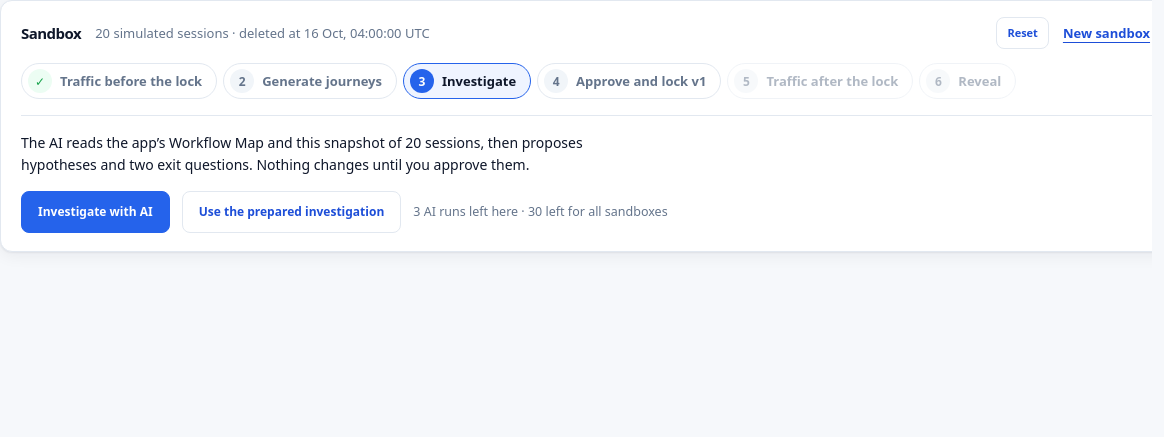
Test: resets the sandbox after a second click and keeps the session limit
Click the button "Reset". click: (1023, 33)
box: [996,17,1049,49]
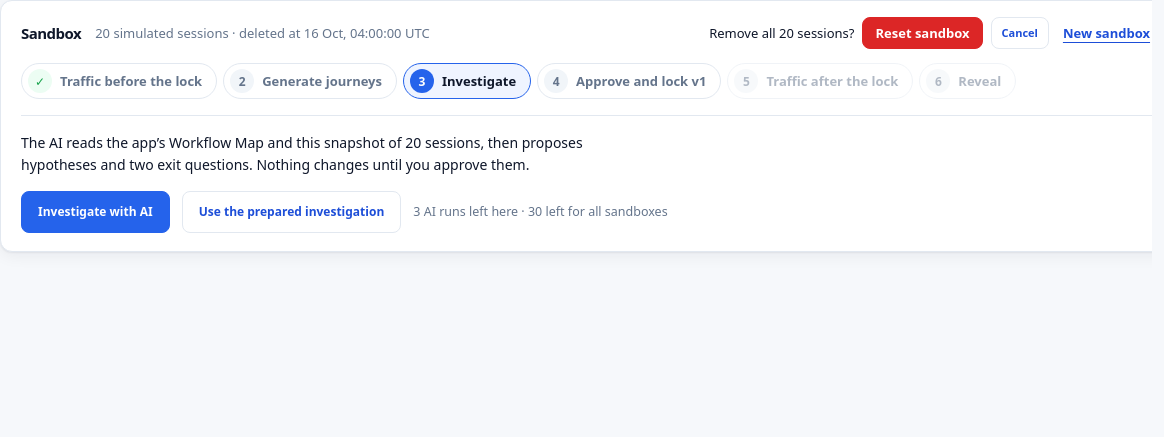
Expected: the text "Remove all 20 sessions?" is shown, [709,24,854,42]
Click the button "Reset sandbox". click: (922, 33)
box: [862,17,982,49]
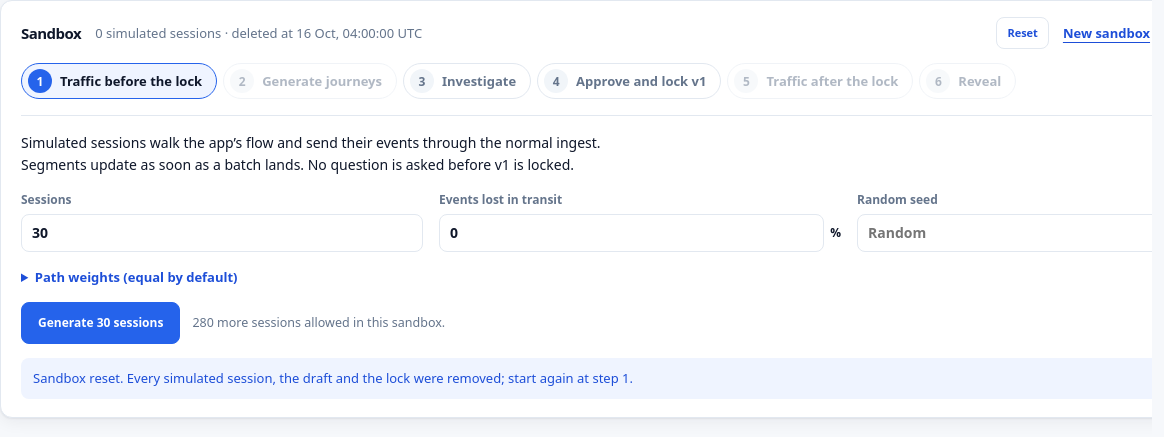
Expected: the text "Sandbox reset." is shown, [33,369,633,387]
Expected: the text "280 more sessions allowed in this sandbox." is shown, [192,314,445,331]
